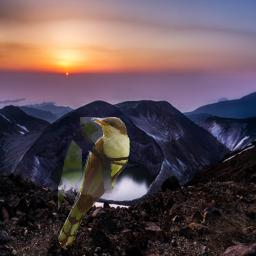Cuckoo: (58, 117, 130, 248)
